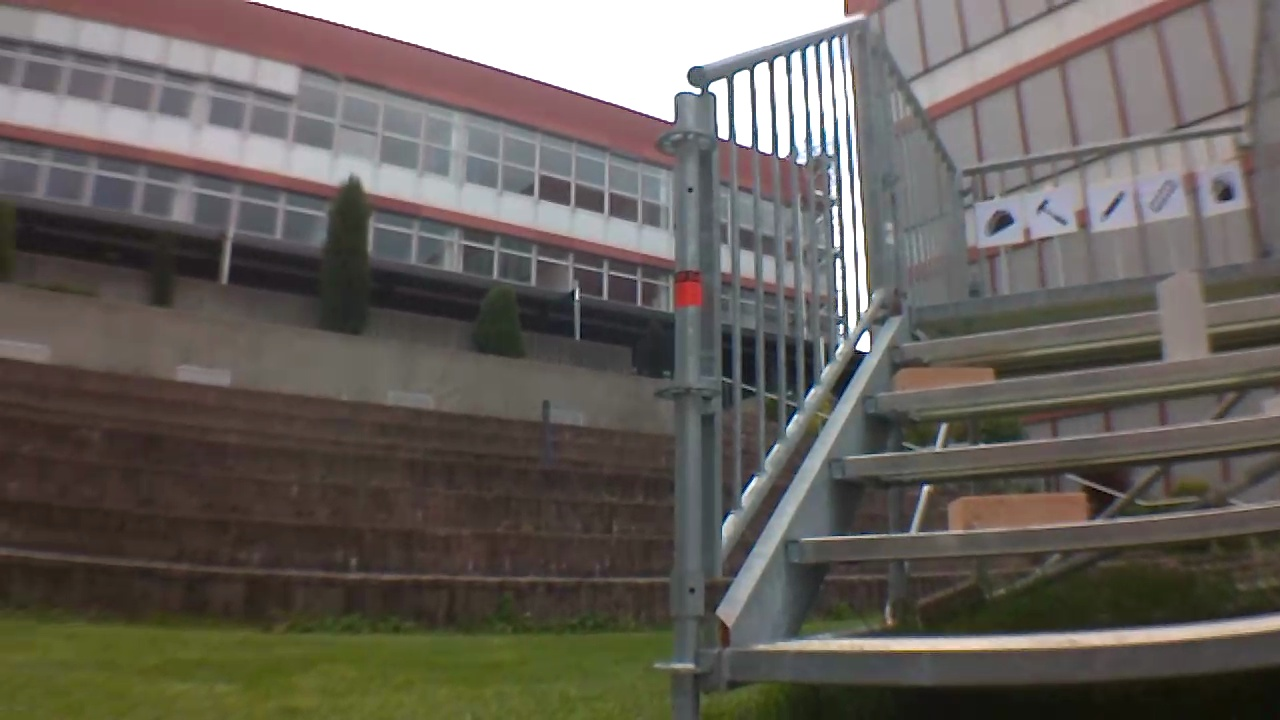brick: (946, 491, 1087, 528), (1158, 272, 1207, 361), (896, 366, 991, 389)
bucket: (1202, 169, 1241, 207)
edge: (732, 629, 1280, 681), (833, 417, 1279, 477), (862, 346, 1280, 410), (784, 506, 1280, 557), (898, 296, 1280, 356), (911, 257, 1278, 315)
hammer: (1032, 196, 1073, 229)
pencil: (1093, 187, 1128, 226)
ruler: (1146, 176, 1181, 214)
stairs: (655, 16, 1280, 713)
steps: (723, 248, 1280, 691)
taco: (982, 204, 1016, 239)
